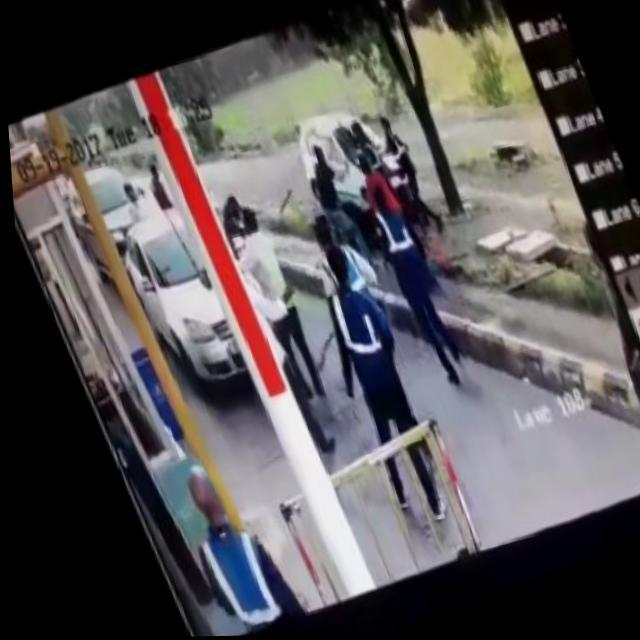fight: (286, 118, 392, 273)
